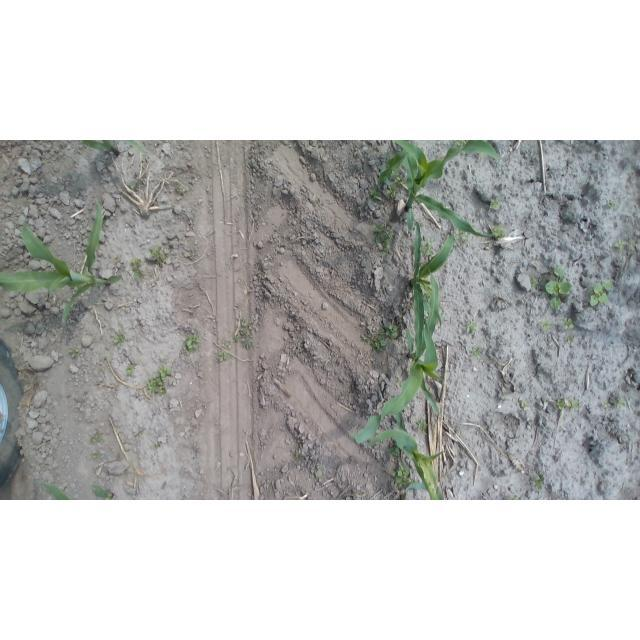Maize: (347, 266, 457, 448), (0, 197, 124, 327), (376, 140, 502, 245), (361, 404, 449, 500), (407, 216, 460, 364), (33, 483, 116, 500), (79, 141, 149, 160)
Weeds: (545, 267, 575, 311), (230, 315, 257, 354), (145, 363, 172, 397), (371, 224, 396, 255), (589, 276, 612, 308), (391, 462, 414, 491), (180, 330, 201, 358), (148, 245, 171, 267), (358, 333, 386, 351), (552, 397, 581, 411), (383, 322, 401, 342), (419, 235, 435, 257), (130, 257, 145, 279), (186, 248, 205, 265), (111, 331, 127, 350), (386, 442, 403, 459), (463, 318, 479, 336), (454, 227, 469, 245), (385, 183, 399, 202), (67, 346, 82, 363), (492, 224, 508, 239), (89, 429, 103, 446), (216, 351, 232, 365), (470, 344, 486, 358), (490, 195, 502, 213), (527, 277, 539, 295), (537, 319, 551, 334), (532, 476, 544, 493), (562, 317, 575, 332), (128, 178, 140, 194), (124, 364, 136, 379), (518, 396, 529, 412), (616, 397, 628, 411), (415, 417, 427, 431), (390, 172, 402, 185), (604, 198, 617, 210), (614, 237, 627, 249), (151, 440, 162, 454), (293, 447, 304, 461), (369, 187, 380, 201), (174, 184, 187, 195), (600, 400, 612, 411), (137, 427, 147, 440), (313, 468, 324, 479), (90, 451, 101, 461), (221, 339, 231, 350), (565, 336, 576, 345), (628, 238, 636, 250), (457, 141, 466, 148)
